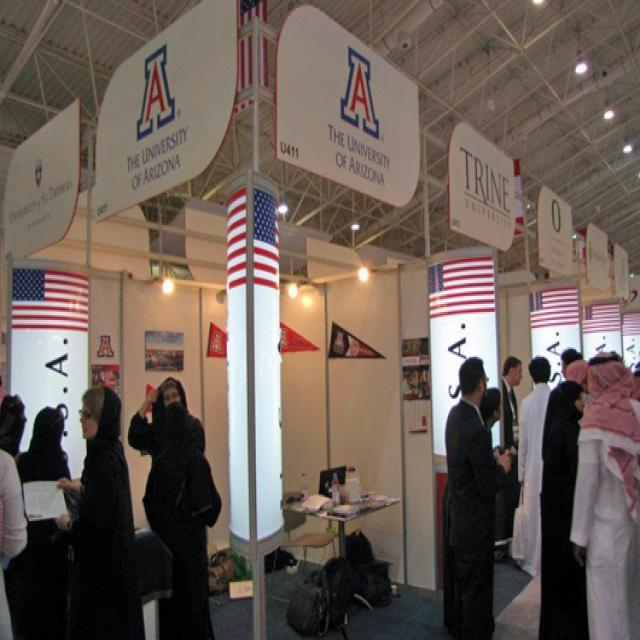body: (125, 373, 224, 640), (51, 382, 147, 640), (567, 349, 640, 640), (139, 399, 224, 640), (446, 356, 513, 638), (439, 386, 504, 638), (535, 375, 589, 638), (509, 354, 552, 580), (15, 404, 74, 544), (0, 375, 28, 638), (492, 352, 526, 542), (397, 338, 431, 405), (564, 357, 590, 397), (319, 461, 342, 505), (557, 344, 583, 376), (623, 359, 639, 389)
